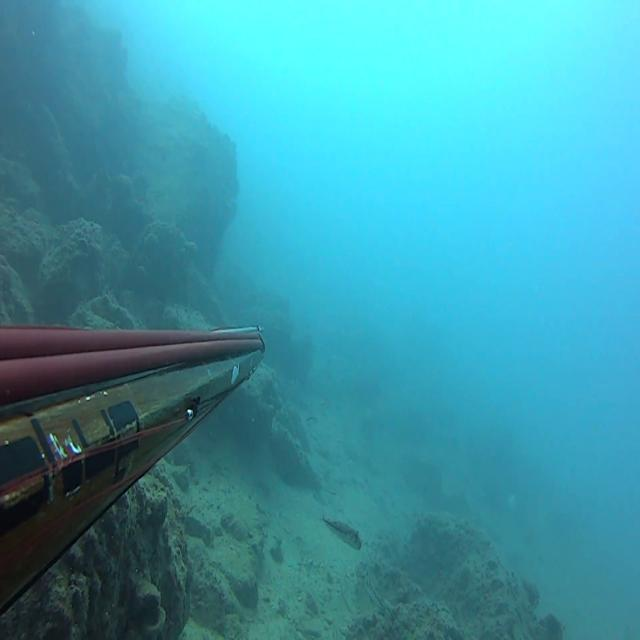Balon Baligi: (320, 512, 362, 550), (359, 562, 383, 608)
